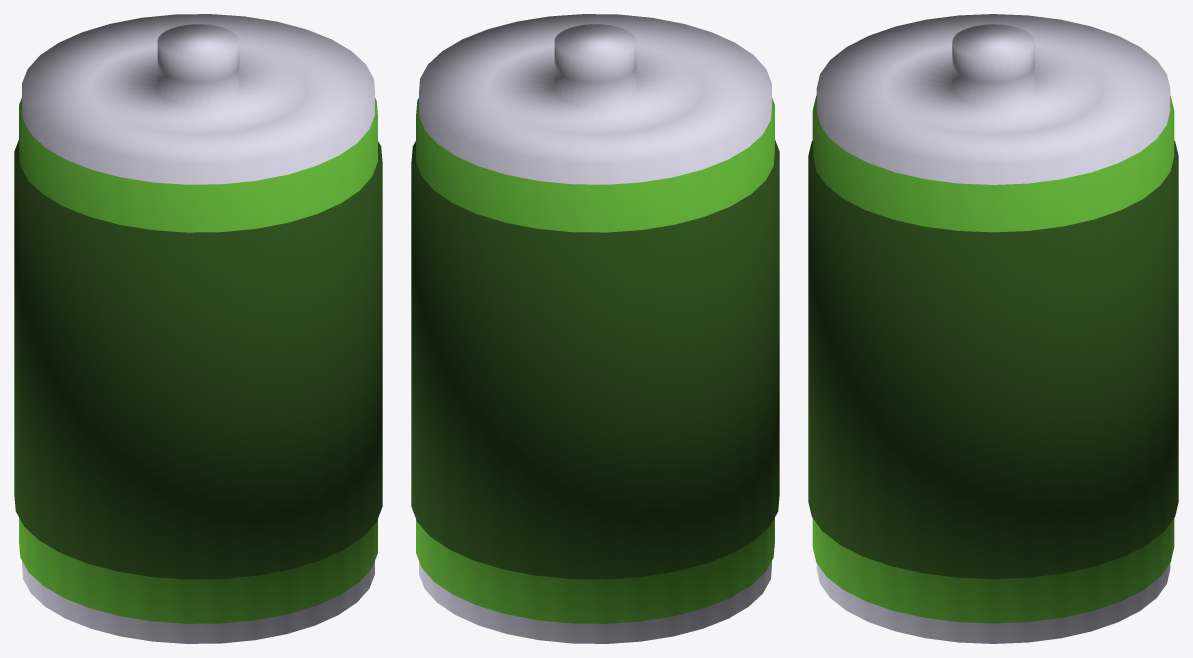
Rendered from Battery.fbx.
3 views of the same model, side by side, from view 1: azimuth 30°, elevation 25°; view 2: azimuth 150°, elevation 25°; view 3: azimuth 270°, elevation 25° (orthographic).
Parts seen in each view (by area): view 1: Cylinder.002, Cylinder, Cylinder.001; view 2: Cylinder.002, Cylinder, Cylinder.001; view 3: Cylinder.002, Cylinder, Cylinder.001.
Part boxes in pixels (x1,y1,x2,y2): Cylinder.002: (14,140,382,579); Cylinder: (22,14,374,643); Cylinder.001: (19,98,377,623); Cylinder.002: (411,140,779,579); Cylinder: (419,14,771,643); Cylinder.001: (416,98,774,623); Cylinder.002: (808,140,1178,578); Cylinder: (816,14,1170,643); Cylinder.001: (812,95,1174,623).
Bounding box in the file's own units: 208 × 329 × 209.
